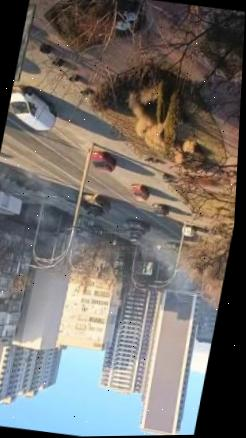car: (87, 149, 119, 174), (127, 182, 151, 202), (150, 202, 171, 217)
tank: (62, 190, 114, 219), (116, 218, 152, 237), (158, 237, 191, 257)
